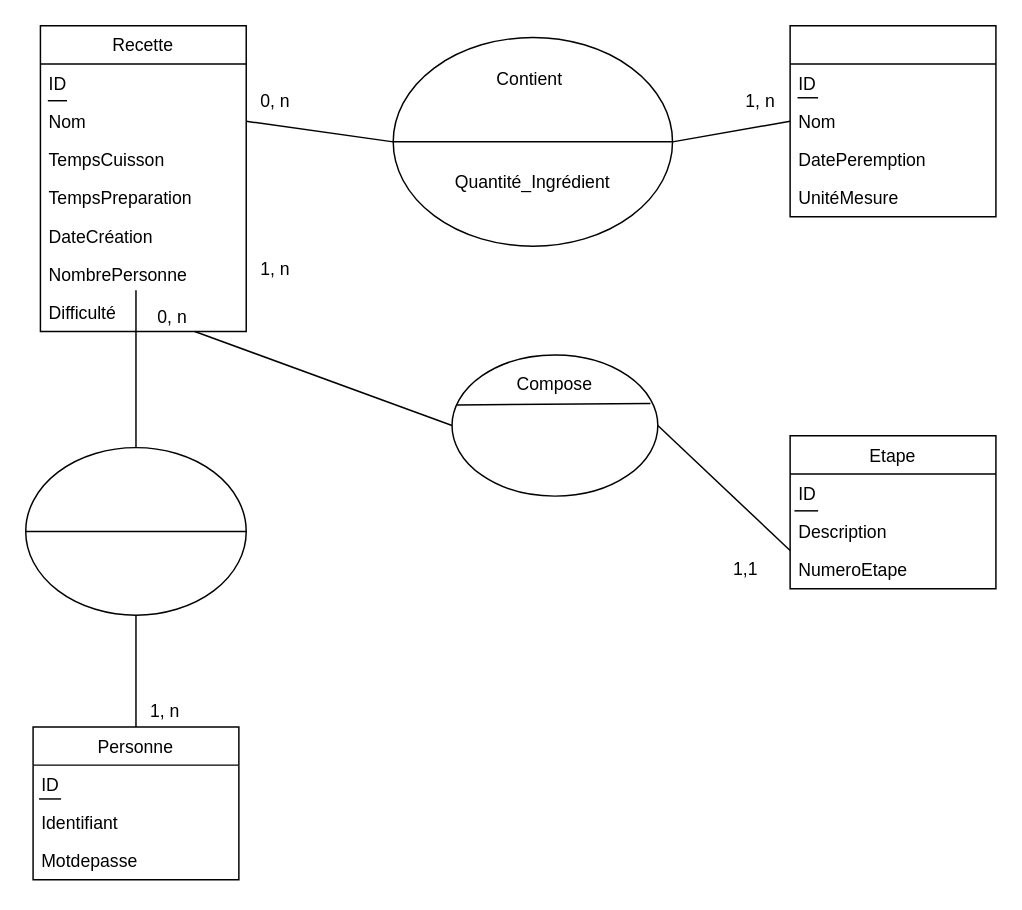
The diagram is 1022 pixels wide and 910 high, and some of its shapes have lost their labels. The box of each missing label's shape, as (x1, y1, x2, y2) in pixels:
Crée: (24, 446, 246, 615)
Ingrédient: (789, 24, 996, 217)
